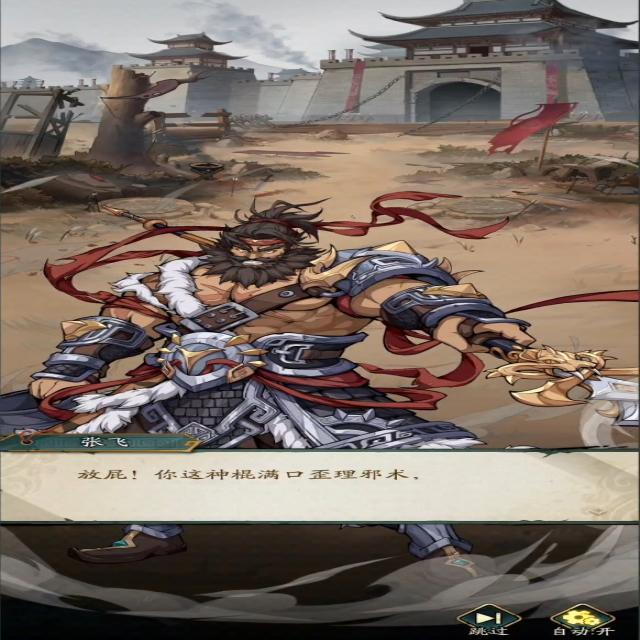system-auto: (552, 605, 614, 634)
system-skip: (458, 602, 522, 637)
